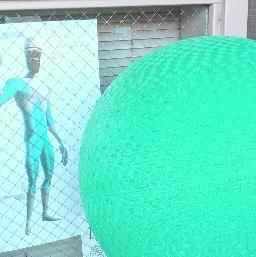algae: (79, 30, 256, 257)
